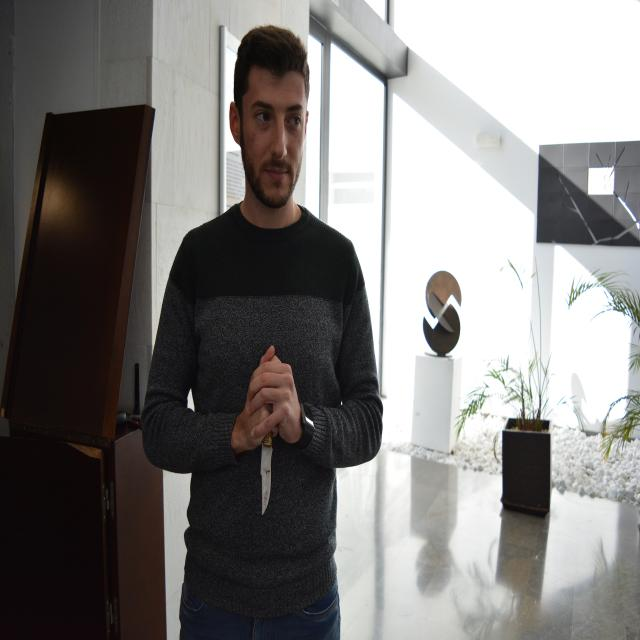knife: (261, 437, 279, 516)
